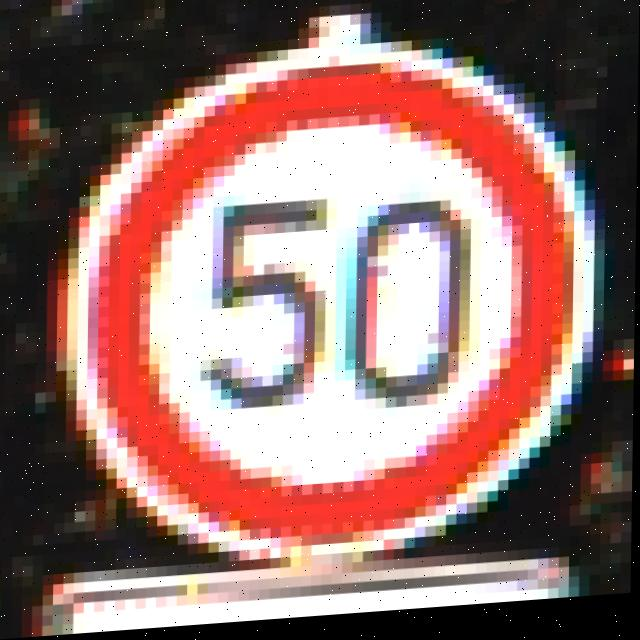speed_limit_50: (52, 40, 602, 587)
